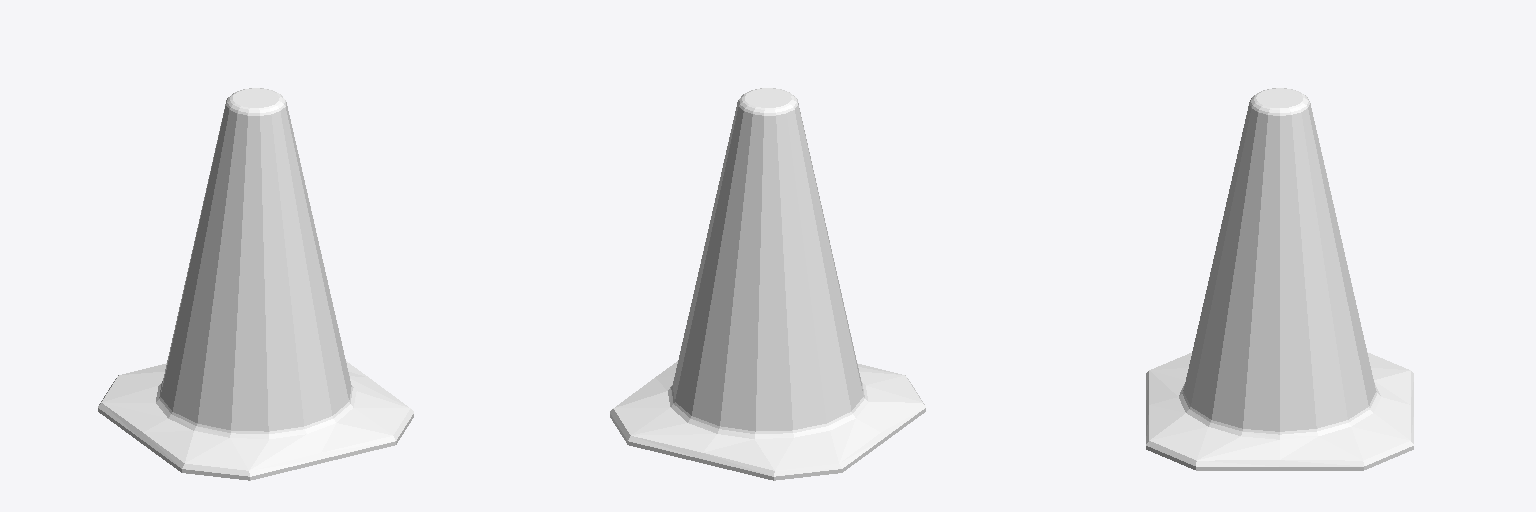
Rendered from PylonCone1.obj.
3 renders of one model, left to right at view 1: azimuth 30°, elevation 25°; view 2: azimuth 150°, elevation 25°; view 3: azimuth 270°, elevation 25°, orthographic.
Parts seen in each view (by area): view 1: Cone; view 2: Cone; view 3: Cone.
Part boxes in pixels (bbox=[...]): Cone: bbox=[98, 88, 413, 480]; Cone: bbox=[610, 88, 925, 480]; Cone: bbox=[1146, 88, 1413, 470].
Size of the model in its own units: 63.88 by 82.79 by 63.93.